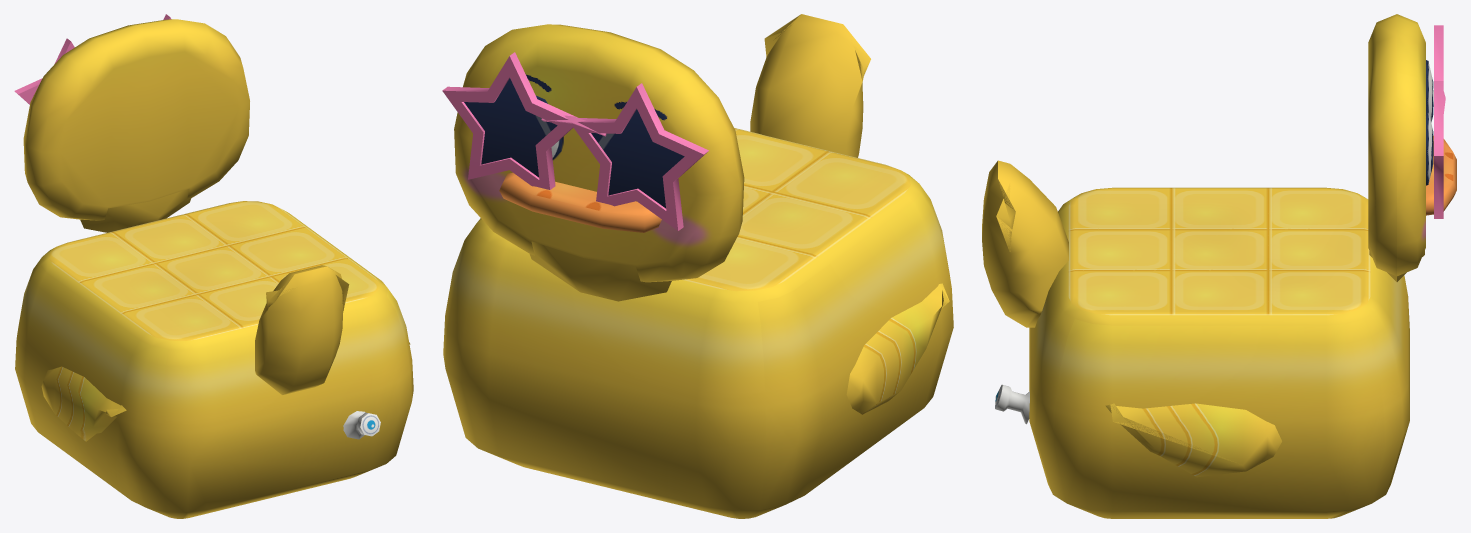
File: pool_duck_mini_sunglasses.glb
3 views of the same model, side by side, from view 1: azimuth 30°, elevation 25°; view 2: azimuth 150°, elevation 25°; view 3: azimuth 270°, elevation 25° (orthographic). The views are drawn at different scales.
Visible parts, largest first — view 1: pool_duck_mini_sunglasses_LOD0; view 2: pool_duck_mini_sunglasses_LOD0; view 3: pool_duck_mini_sunglasses_LOD0.
Boxes of the visible parts, box(x1,y1,x2,y2) form: pool_duck_mini_sunglasses_LOD0: box(14, 14, 413, 518); pool_duck_mini_sunglasses_LOD0: box(442, 14, 953, 518); pool_duck_mini_sunglasses_LOD0: box(982, 14, 1456, 518).
Bounding box in the file's own units: 5 × 6 × 6.
1 material, 1 textured.
